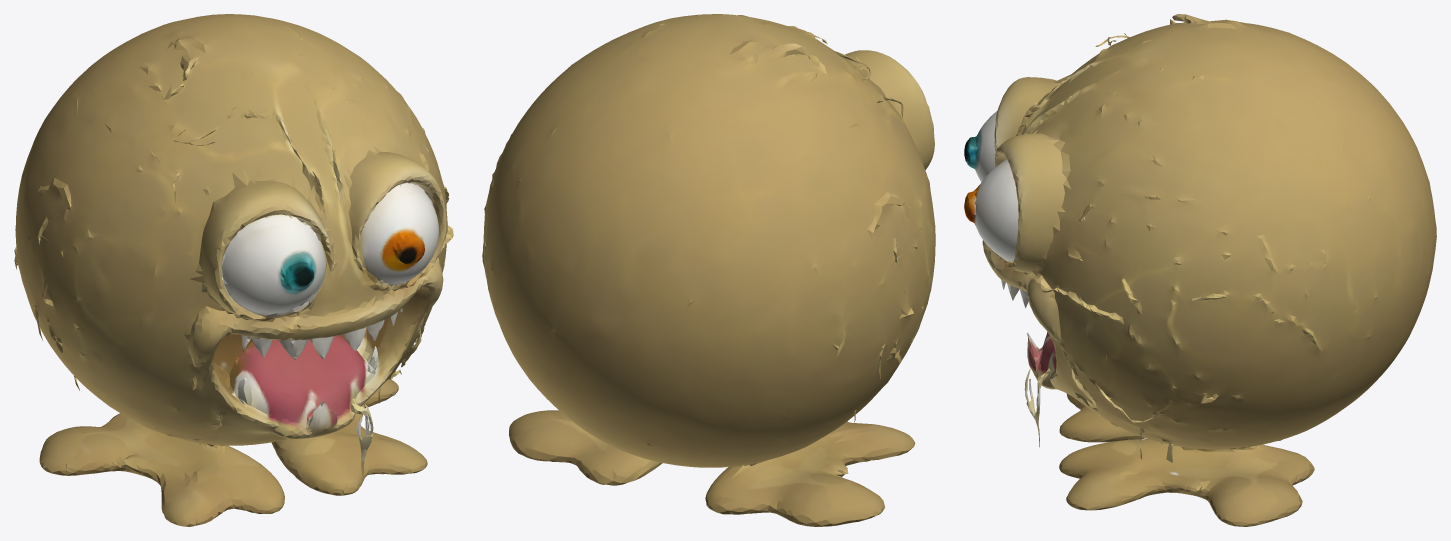
Rendered from HairWad.glb.
3 renders of one model, left to right at view 1: azimuth 30°, elevation 25°; view 2: azimuth 150°, elevation 25°; view 3: azimuth 270°, elevation 25°, orthographic. The views are drawn at different scales.
Parts seen in each view (by area): view 1: HairWad; view 2: HairWad; view 3: HairWad.
Part boxes in pixels (x1,y1,x2,y2): HairWad: [14, 14, 453, 526]; HairWad: [482, 14, 935, 526]; HairWad: [964, 14, 1436, 526].
Bounding box in the file's own units: 1.71 × 1.79 × 1.86.
Materials: 1 (1 with a texture image).
